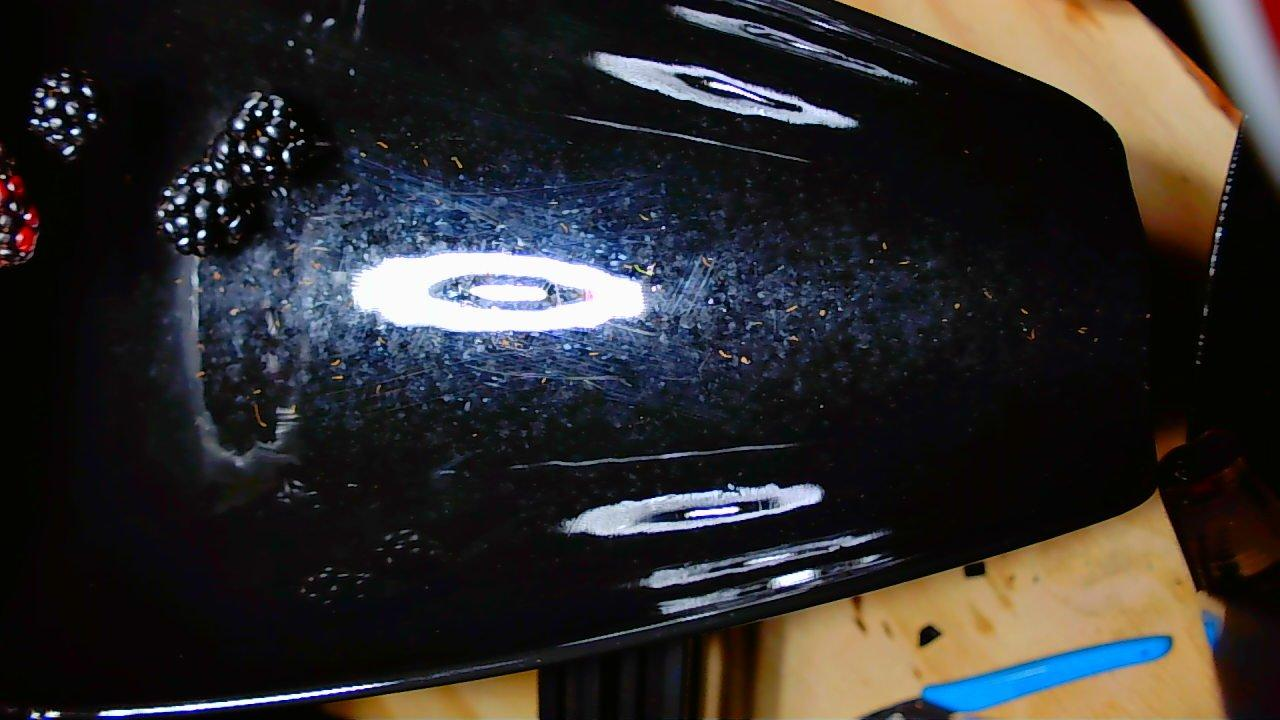berry: (156, 161, 255, 256), (209, 92, 304, 186), (27, 69, 101, 160), (0, 165, 39, 267)
